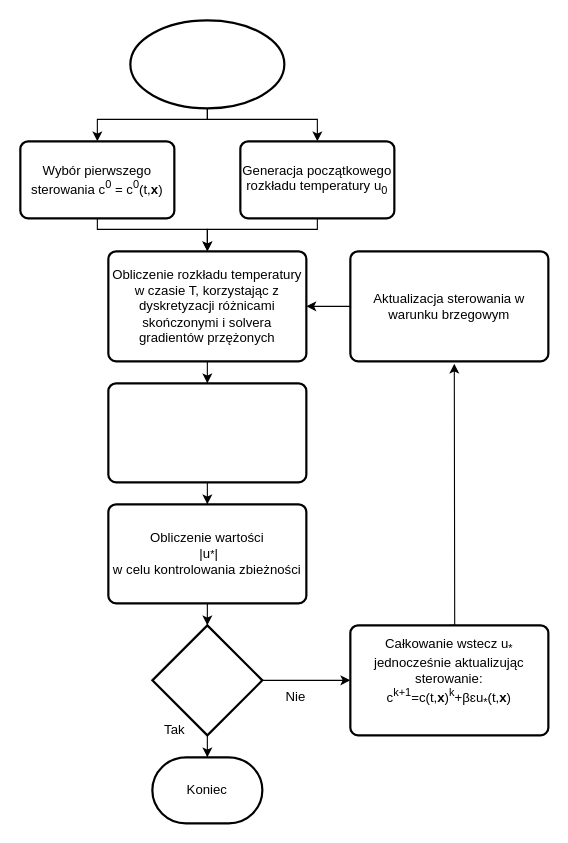
The diagram is 568 pixels wide and 843 high, and some of its shapes have lost their labels. Here are the shapes that lost their labels. From the top down, the box of each, then its label:
(129, 19, 285, 109): Start
(107, 382, 307, 483): Wyznaczenie warunku początkowego u * = V - u(T)
(151, 624, 263, 736): Rozwiąznie się zbiegło?
